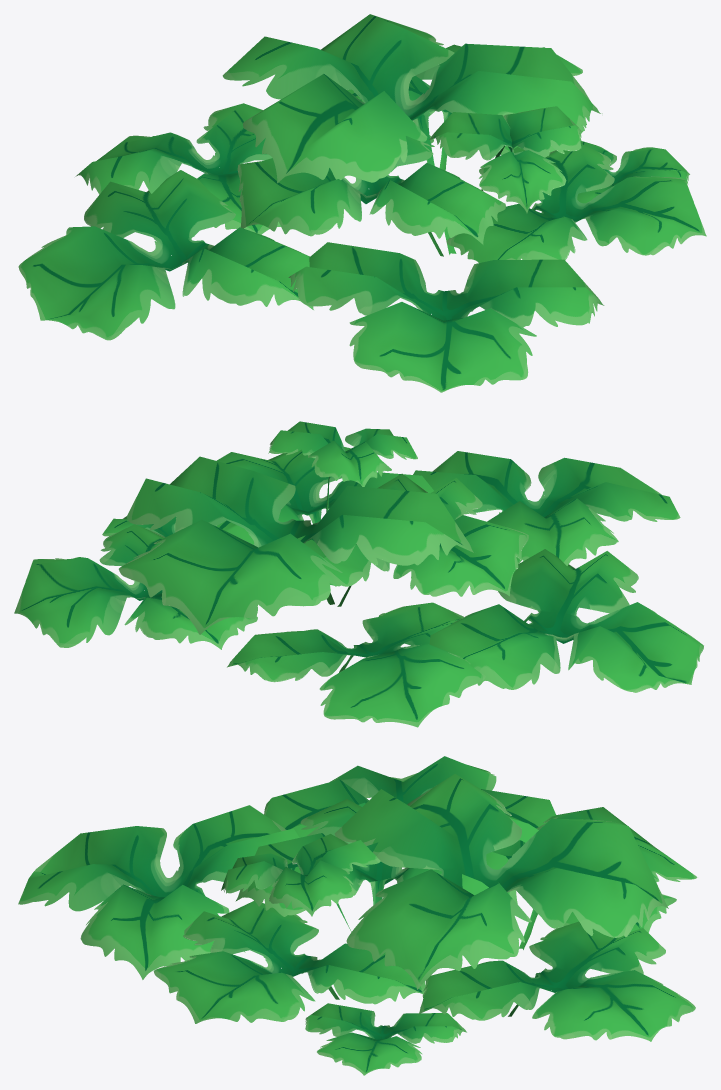
Rendered from leafplant.fbx.
3 renders of one model, top to bottom at view 1: azimuth 30°, elevation 25°; view 2: azimuth 150°, elevation 25°; view 3: azimuth 270°, elevation 25°, orthographic. The views are drawn at different scales.
Visible parts, largest first — view 1: pPlane10; view 2: pPlane10; view 3: pPlane10.
Part boxes in pixels (x1,y1,x2,y2): pPlane10: (18, 14, 706, 392); pPlane10: (14, 421, 703, 727); pPlane10: (18, 756, 697, 1075).
Size of the model in its own units: 182 by 42.86 by 176.
Materials: 1 (1 with a texture image).
